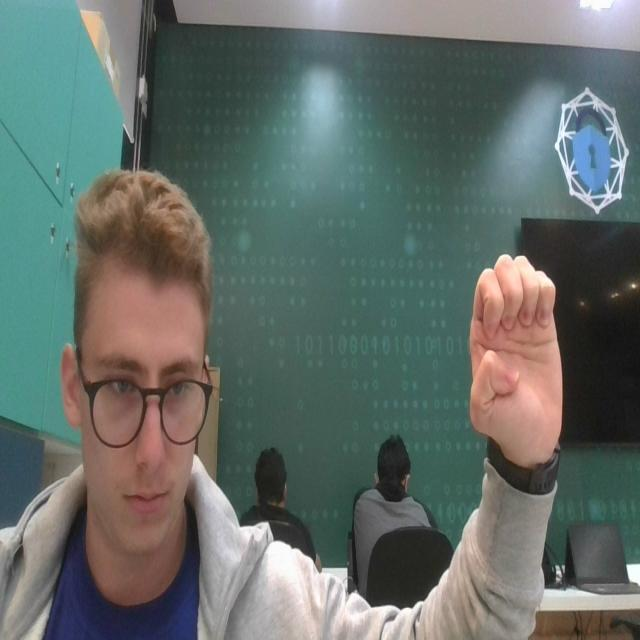E: (463, 247, 568, 469)
